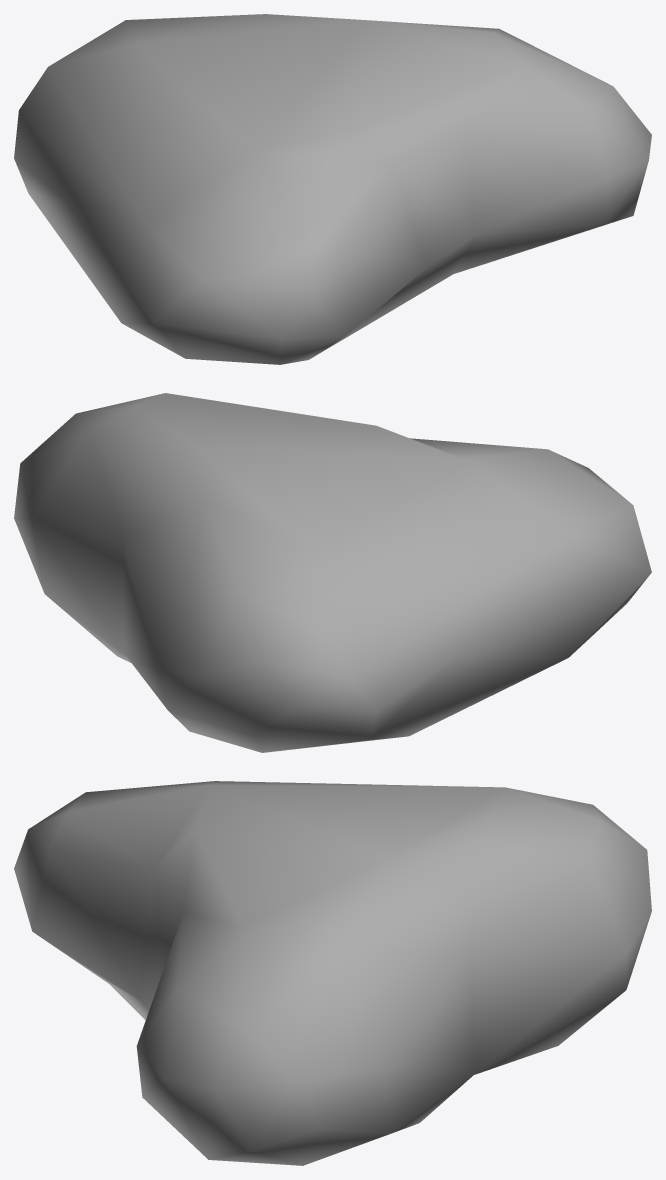
Rendered from SoftRock_07.fbx.
3 views of the same model, one above another, from view 1: azimuth 30°, elevation 25°; view 2: azimuth 150°, elevation 25°; view 3: azimuth 270°, elevation 25° (orthographic). The views are drawn at different scales.
Visible parts, largest first — view 1: SoftRock_07; view 2: SoftRock_07; view 3: SoftRock_07.
Boxes of the visible parts, x1,y1,x2,y2 form: SoftRock_07: (14, 14, 651, 364); SoftRock_07: (14, 393, 651, 752); SoftRock_07: (14, 781, 651, 1165).
Bounding box in the file's own units: 111 × 42.43 × 101.
